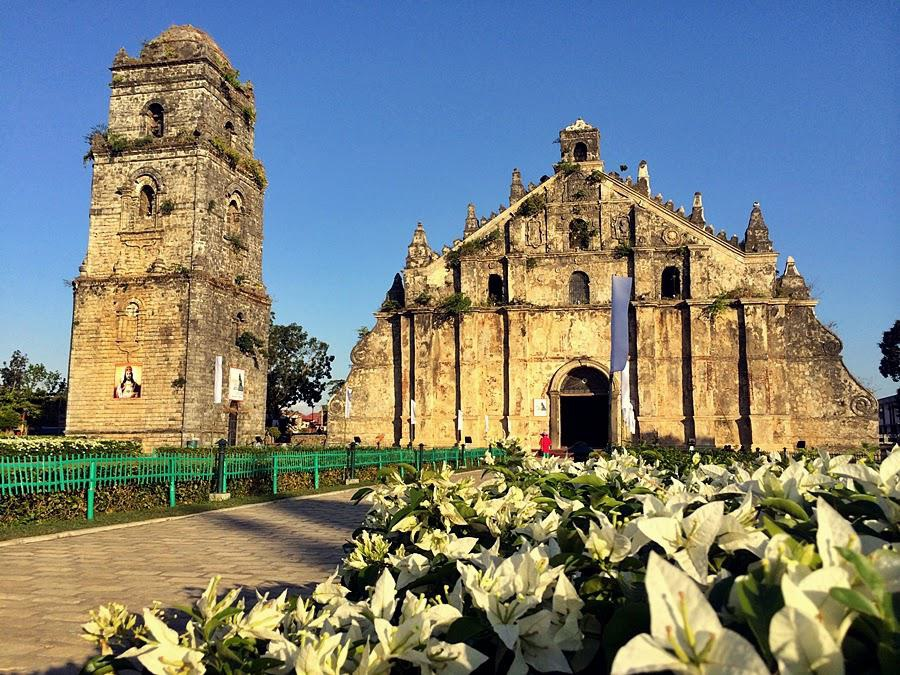paoay_church_paoay_ilocos_norte: (48, 14, 885, 479)
vegetation_damage: (211, 142, 272, 184), (98, 127, 145, 158), (513, 190, 556, 221), (438, 292, 480, 321)
